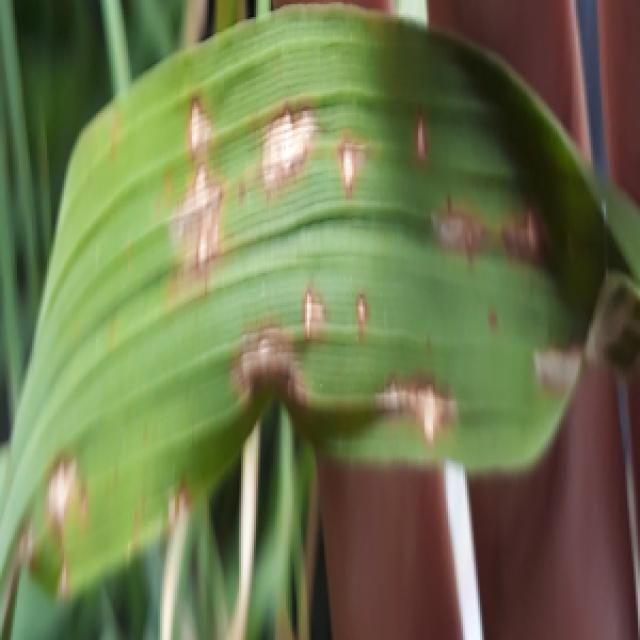Rice: (249, 102, 321, 198), (362, 373, 456, 442), (170, 165, 225, 276), (35, 458, 94, 540), (516, 337, 592, 392), (234, 327, 294, 393), (420, 200, 476, 248), (509, 194, 548, 260), (181, 91, 214, 161), (349, 280, 380, 346), (295, 280, 322, 346), (330, 140, 365, 190), (402, 107, 432, 157)
